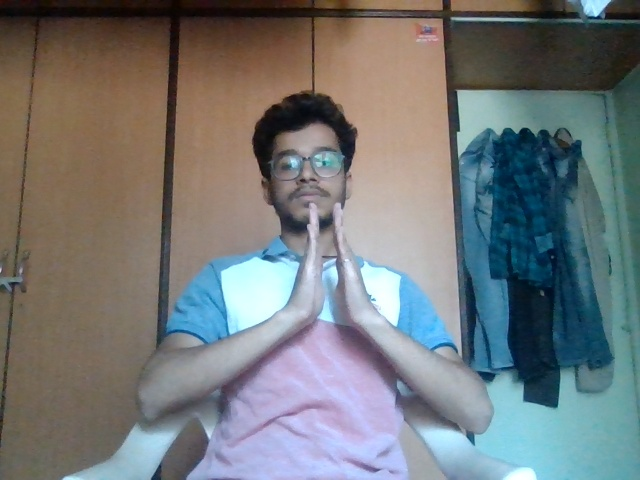morning: (281, 196, 406, 347)
